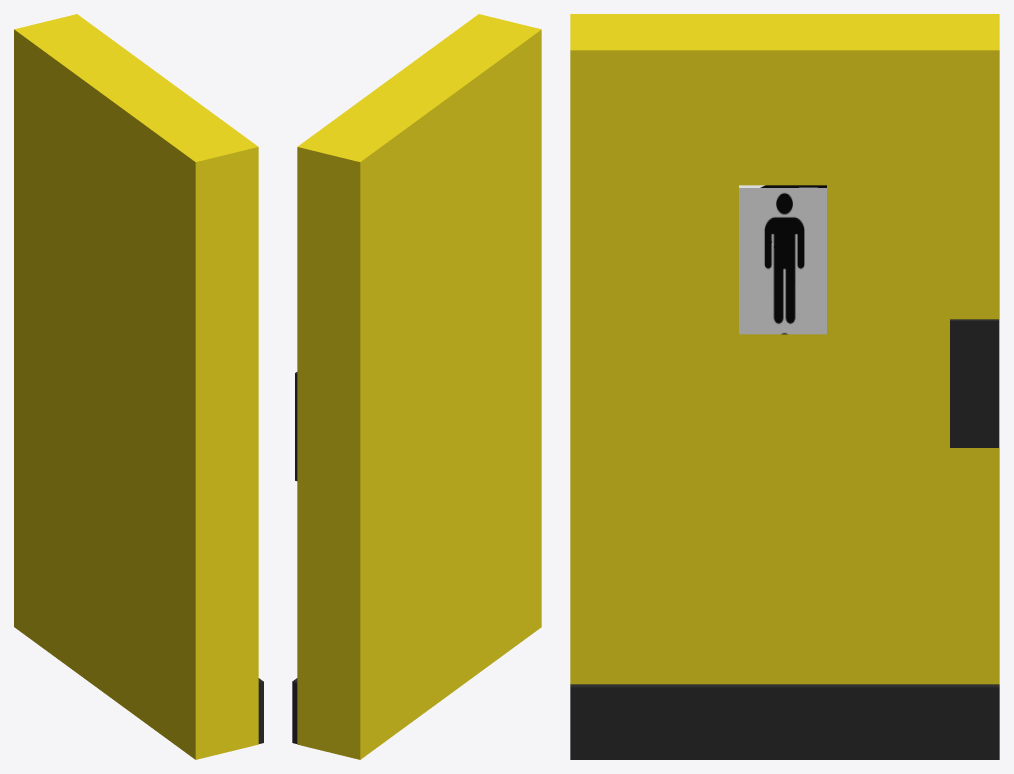
File: mens toilet.fbx
The picture shows the model from 3 angles, left to right: view 1: azimuth 30°, elevation 25°; view 2: azimuth 150°, elevation 25°; view 3: azimuth 270°, elevation 25°; orthographic projection. The views are drawn at different scales.
Parts seen in each view (by area): view 1: Cube; view 2: Cube; view 3: Cube, Cube.002, Cube.001, Cube.003.
Part boxes in pixels (x1=…): Cube: x1=14, y1=14, x2=258, y2=759; Cube: x1=297, y1=14, x2=541, y2=759; Cube: x1=570, y1=14, x2=999, y2=684; Cube.002: x1=570, y1=684, x2=999, y2=759; Cube.001: x1=739, y1=185, x2=826, y2=334; Cube.003: x1=950, y1=319, x2=998, y2=447.
Bounding box in the file's own units: 86.76 × 694 × 382.
